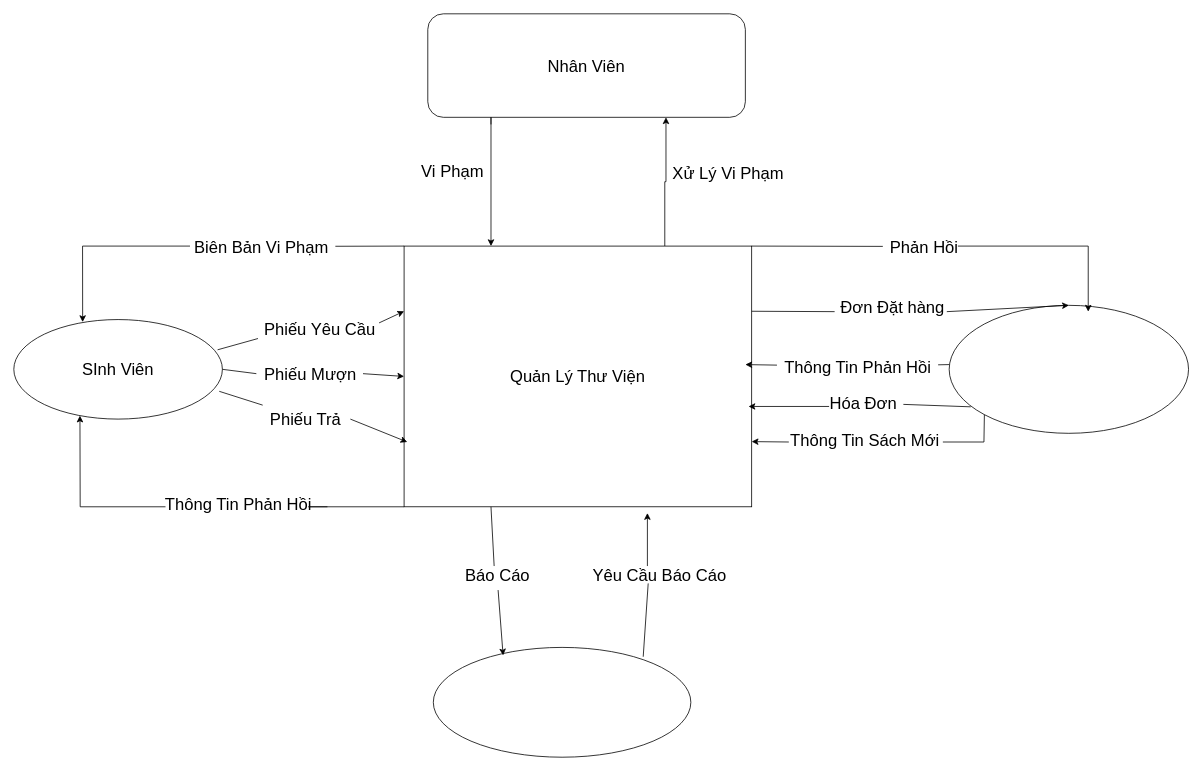
Some shapes in this 1202 by 771 pixel diagram are drawn without their labels. The centre of each missing label's shape, as x and y in pixels:
Ban GIám Hiệu: pixel 562 702
Nhà Cung Cấp: pixel 1068 369
